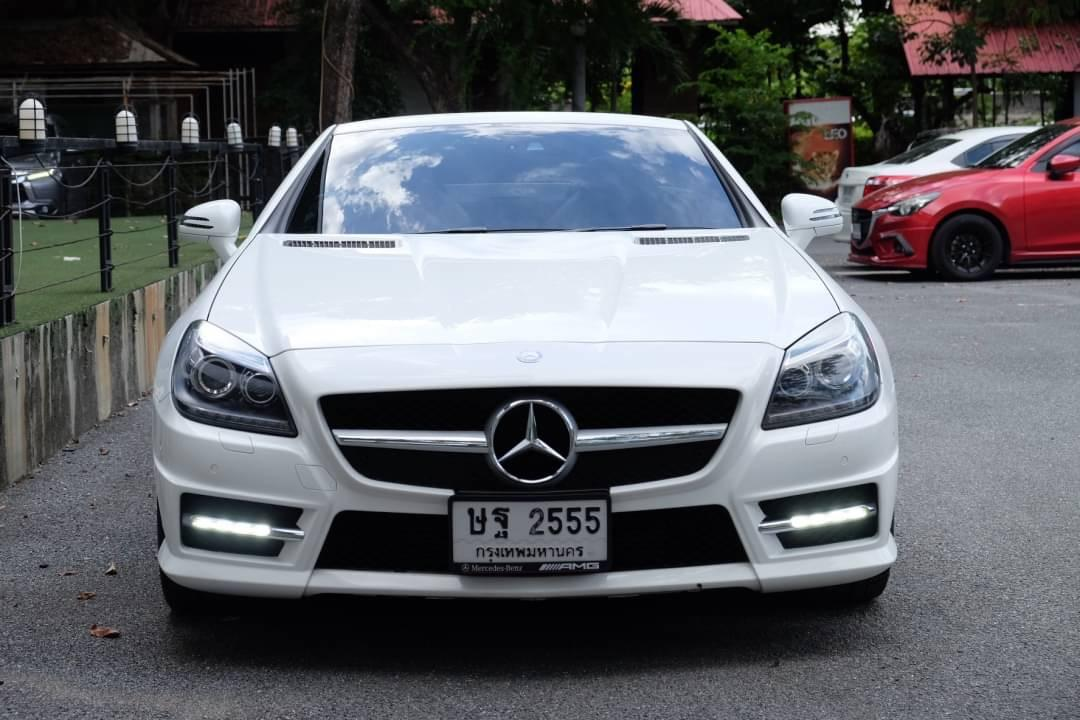license-plate: (434, 484, 620, 583)
